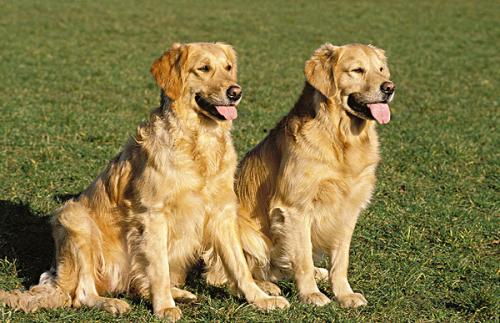dog: (142, 37, 254, 137), (305, 38, 409, 130)
